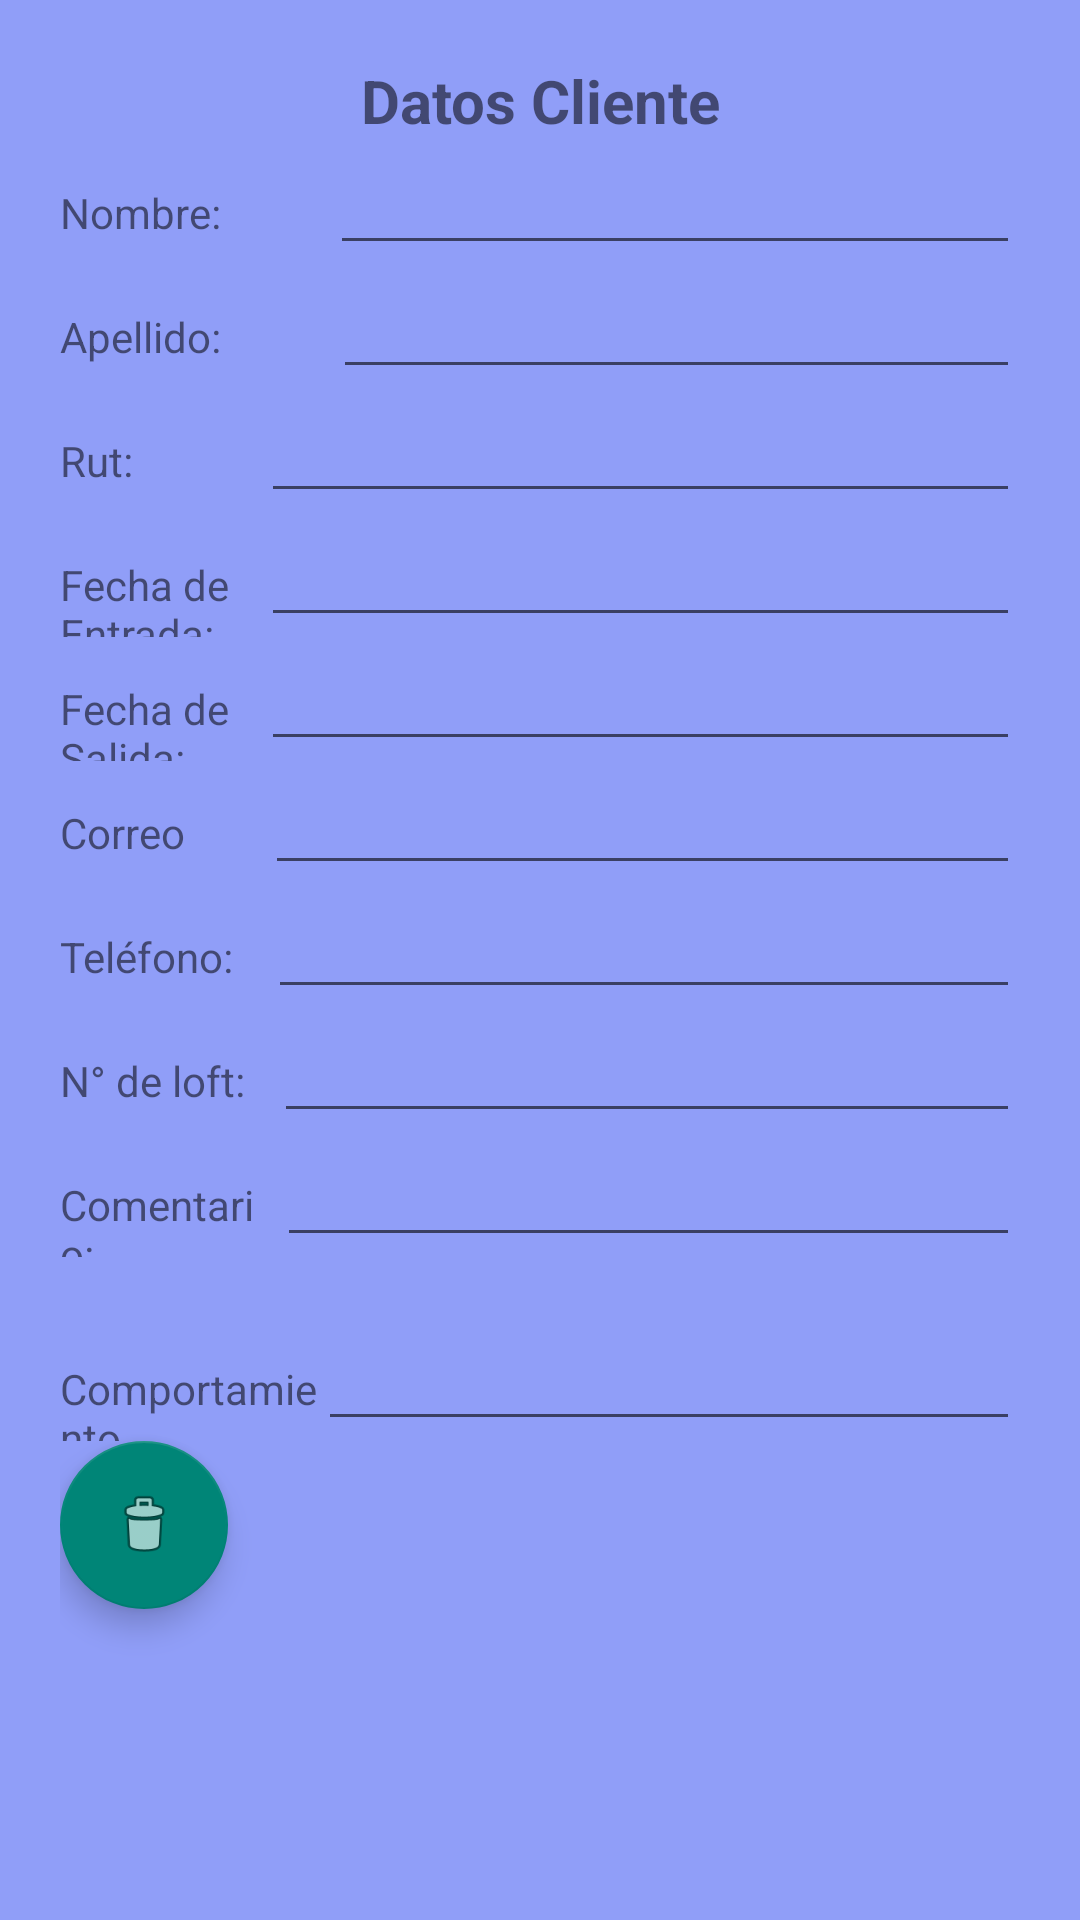

Point at icon controls on the screen. Image size 1080*1920, points as (x,y).
delete: (144,1525)
